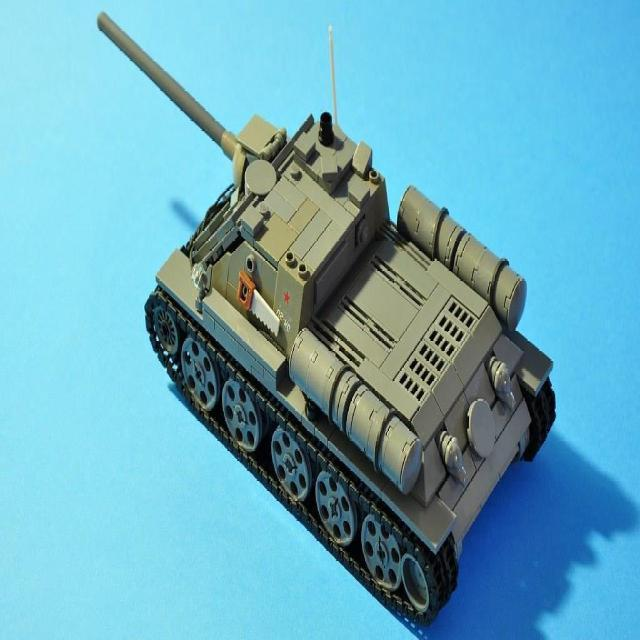MIL_MBT: (143, 93, 556, 621)
